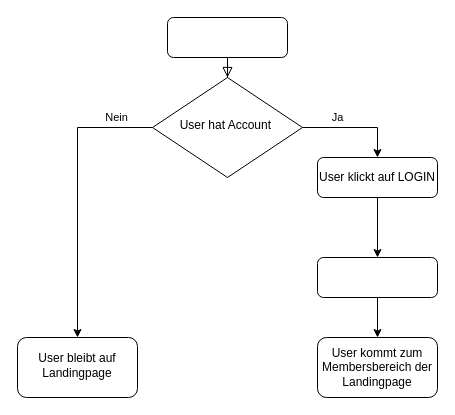
This 455x415 diagram has some shape labels left out. The centre of each missing label's shape, as x and y in pixels:
User kommt auf HP: point 227,37
User meldet sich mit seinen Daten an: point 377,277
